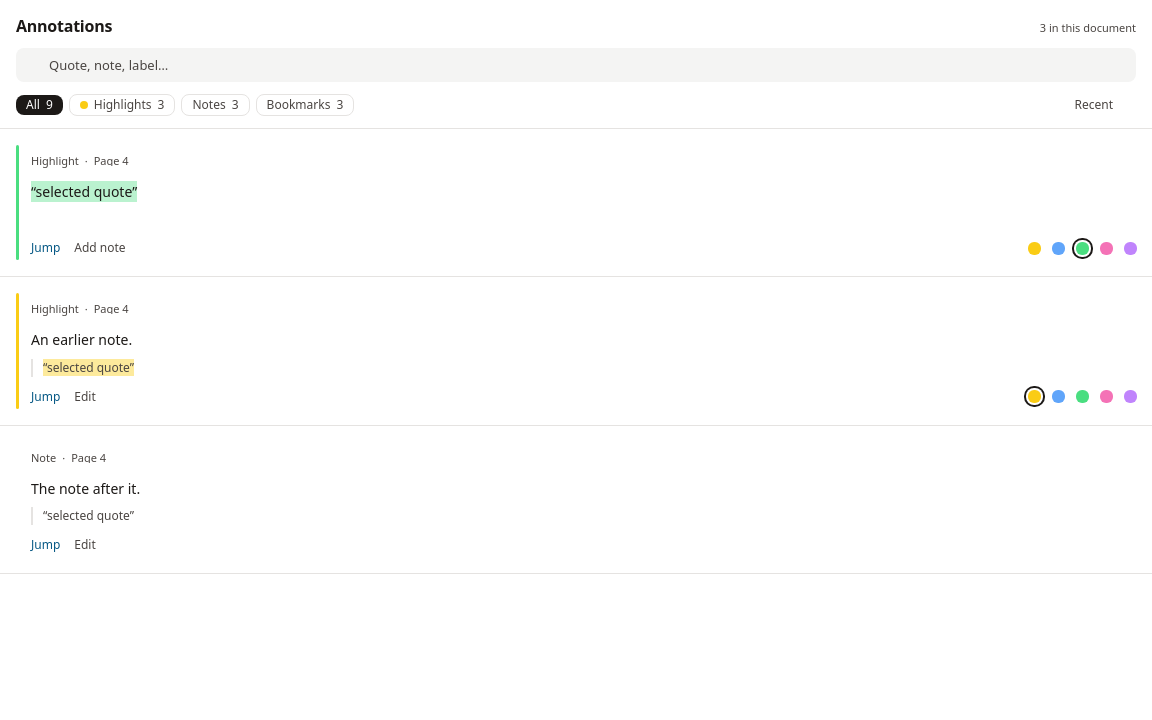
Test: a reveal is never consumed without rendering its target › keeps the reveal pending when the target page fails, and lands it on the retry
Click the button "Notes 3" at (216,105), box [182,94,250,116]
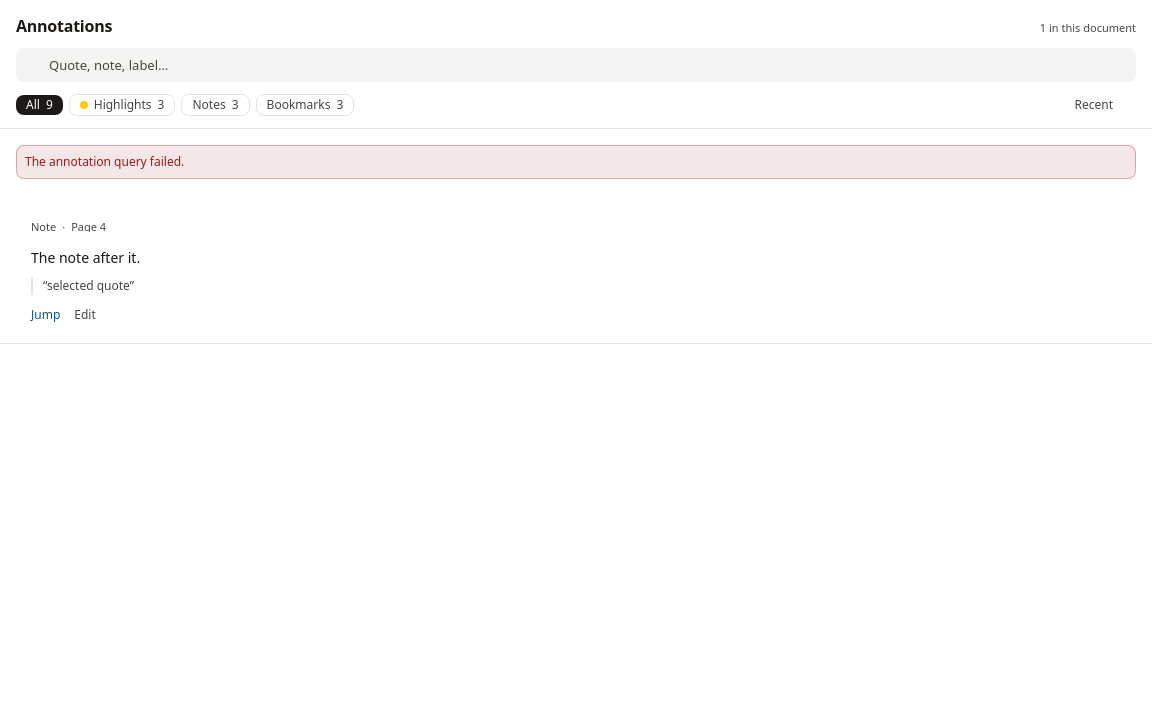
Now the number of list items with test id "annotation-row" is 1, box [0,195,1151,344]
Now the message reads "The annotation query failed.", box [25,153,184,170]
